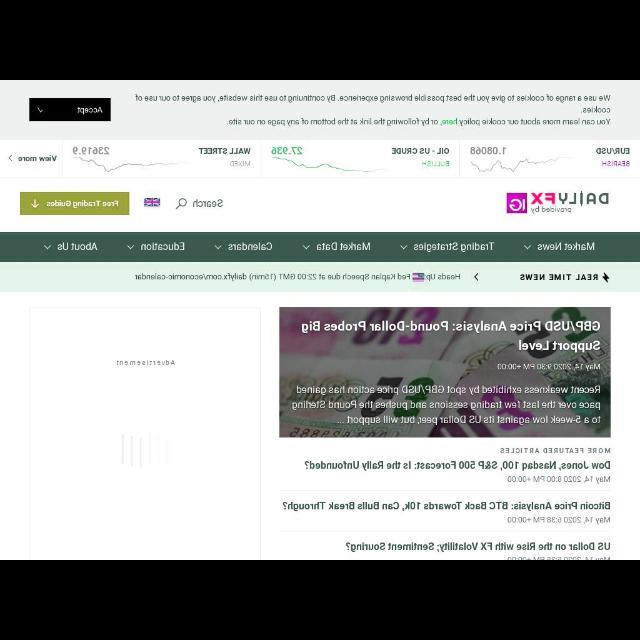icon: (175, 198, 188, 210), (602, 273, 610, 283), (31, 200, 39, 208), (474, 272, 480, 282), (524, 243, 532, 250), (214, 244, 223, 250), (399, 244, 408, 250), (8, 154, 14, 162), (44, 244, 52, 250), (127, 244, 135, 250), (302, 244, 310, 250), (37, 107, 43, 113)
iframe: (1, 80, 640, 140)
image: (280, 306, 610, 438), (272, 146, 384, 174), (72, 146, 190, 172), (469, 146, 569, 174), (507, 190, 609, 214), (144, 198, 160, 208), (412, 273, 424, 281)
spinner: (400, 242, 494, 252), (524, 242, 596, 252), (303, 242, 372, 252), (213, 242, 271, 252), (44, 242, 98, 252), (126, 242, 186, 250)
text: (134, 94, 612, 126), (291, 386, 601, 426), (302, 321, 600, 353), (282, 501, 610, 512), (305, 461, 611, 472), (346, 542, 610, 552), (134, 273, 412, 281), (500, 447, 610, 455), (497, 363, 601, 371), (507, 476, 611, 484), (508, 516, 610, 524), (414, 243, 494, 253), (47, 199, 119, 209), (520, 274, 598, 282), (317, 242, 371, 252), (390, 147, 450, 155), (115, 359, 175, 367), (537, 243, 595, 251), (228, 242, 272, 252), (198, 147, 252, 155), (506, 555, 610, 559), (58, 242, 98, 252), (141, 242, 185, 250), (17, 154, 57, 162), (424, 274, 461, 282), (594, 147, 630, 155), (192, 200, 224, 208), (421, 160, 449, 168), (78, 106, 102, 114), (602, 161, 630, 167), (230, 160, 250, 168)
textbutton: (20, 192, 130, 214), (1, 140, 62, 178), (29, 98, 110, 122)
toolbar: (2, 178, 640, 232)
